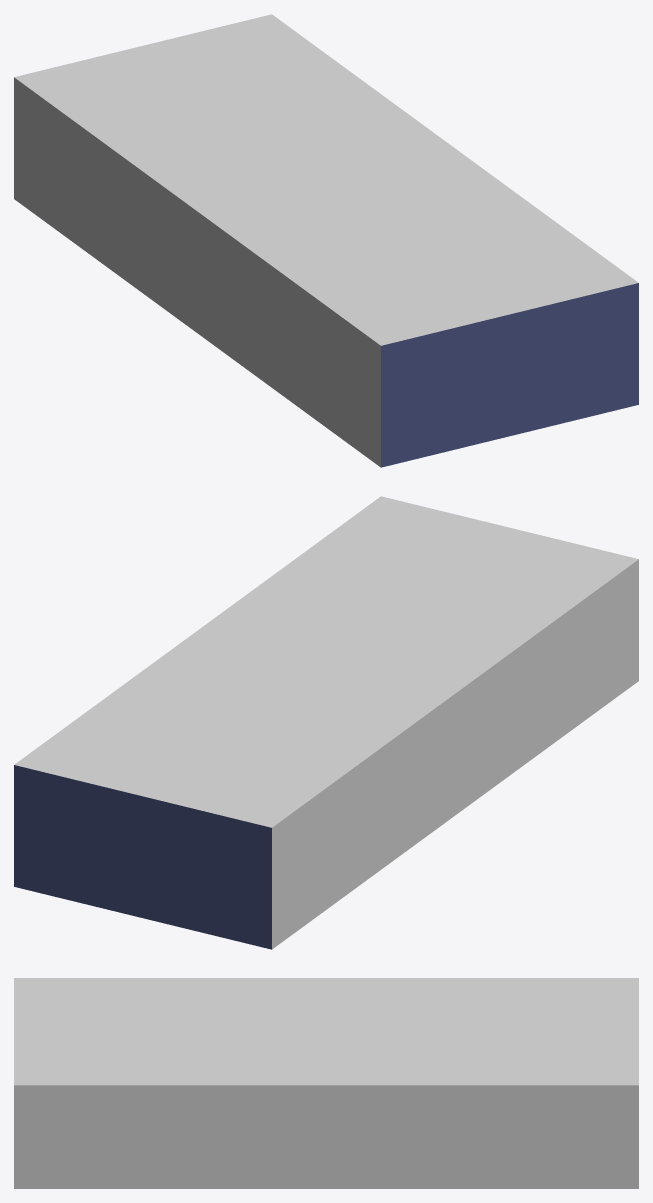
The model's file is i_pills1.glb.
3 renders of one model, top to bottom at view 1: azimuth 30°, elevation 25°; view 2: azimuth 150°, elevation 25°; view 3: azimuth 270°, elevation 25°, orthographic. The views are drawn at different scales.
Visible parts, largest first — view 1: Cube; view 2: Cube; view 3: Cube.
Boxes of the visible parts, x1,y1,x2,y2 form: Cube: (14, 14, 638, 467); Cube: (14, 496, 638, 949); Cube: (14, 978, 638, 1188).
Bounding box in the file's own units: 0.3664 × 0.1654 × 0.9031.
